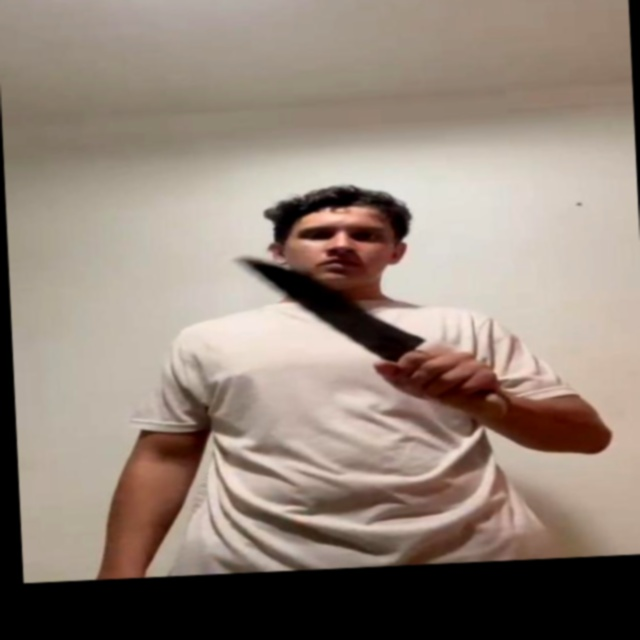Sharp-Object: (229, 248, 428, 363)
